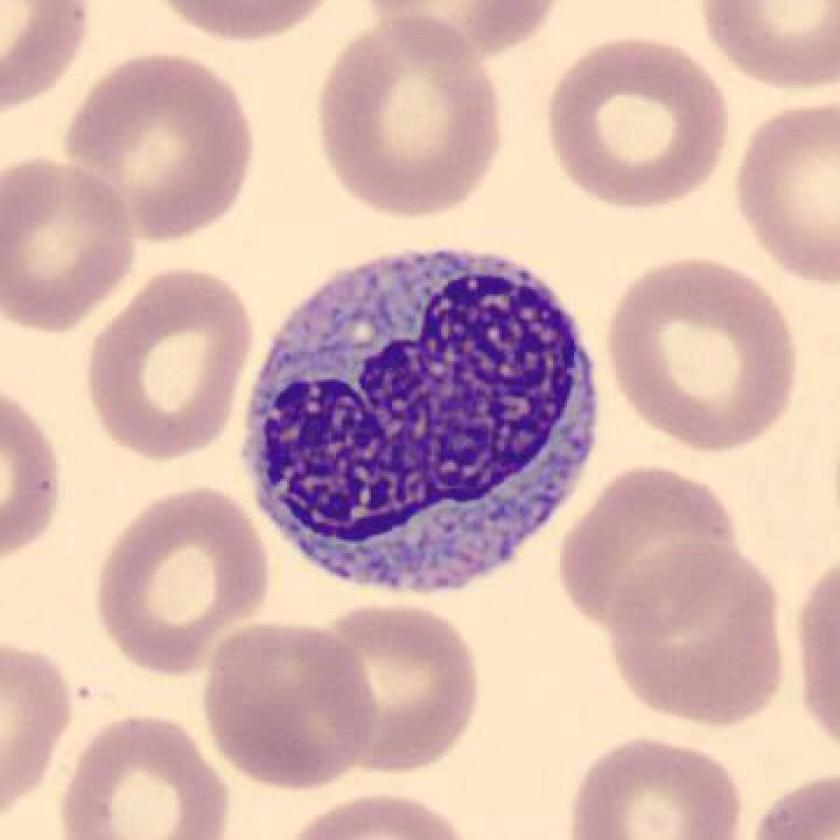monocyte: (227, 228, 617, 610)
